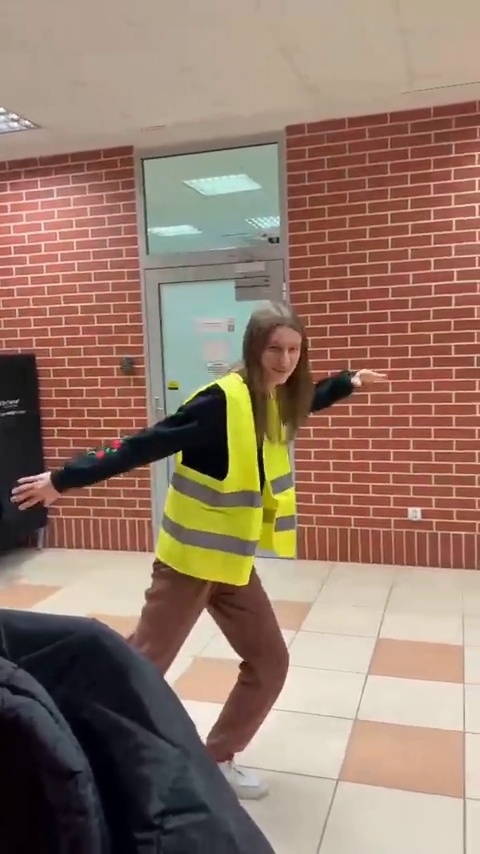vest: (145, 295, 323, 800)
